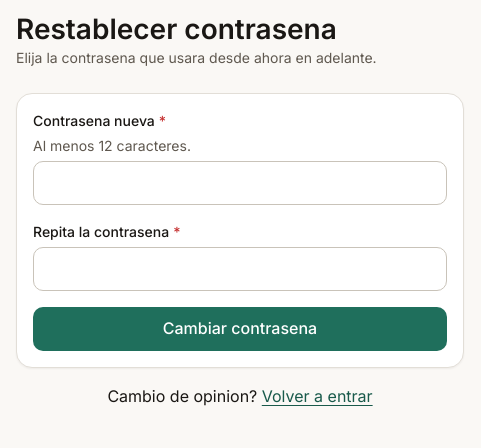
Scenario: validacion antes de viajar › una contrasena demasiado corta se anuncia en su campo
Type "corta" into the password field labelled "Contrasena nueva*" at (240,183), box x1=33 y1=161 x2=447 y2=205
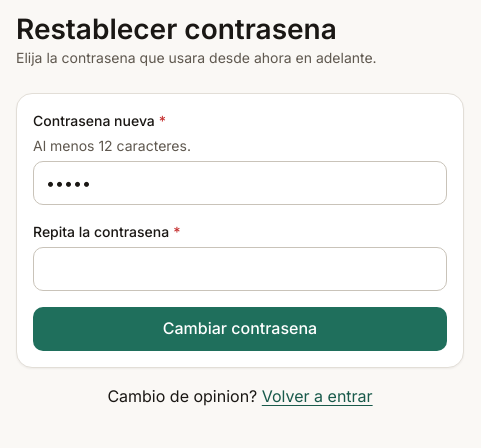
Type "corta" into the password field labelled "Repita la contrasena*" at (240,269), box x1=33 y1=247 x2=447 y2=291
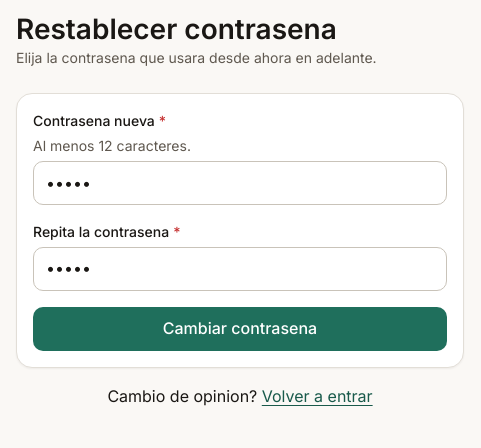
Click the button "Cambiar contrasena" at (240,329), box x1=33 y1=307 x2=447 y2=351
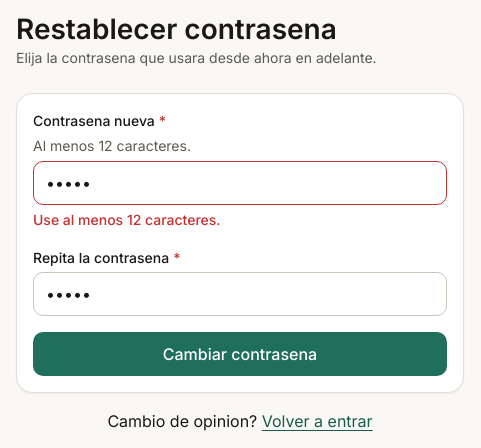
expect the message shows "12": met, box x1=33 y1=211 x2=221 y2=228
